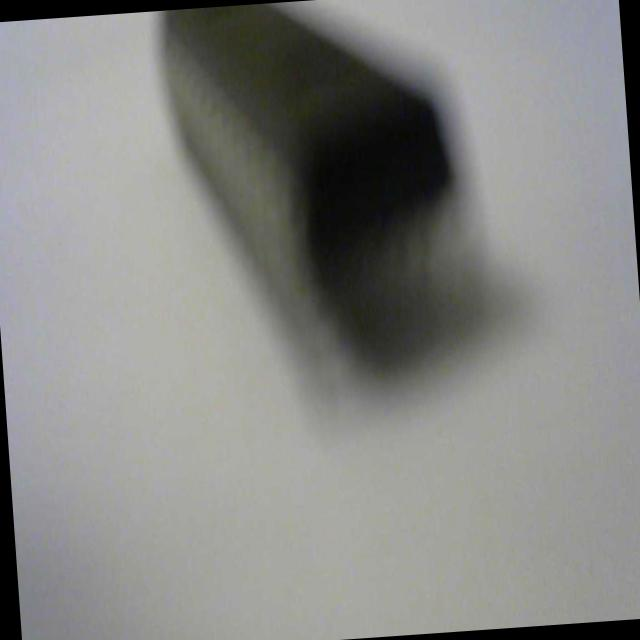atmega: (151, 0, 508, 410)
